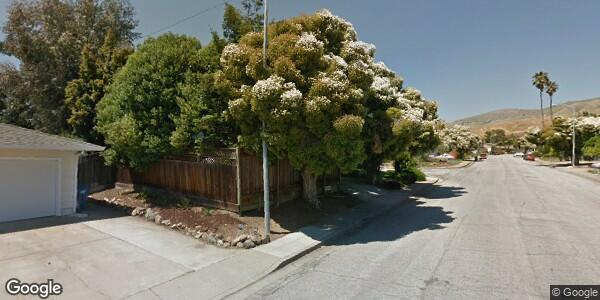Steel_Pole: (259, 2, 273, 232)
